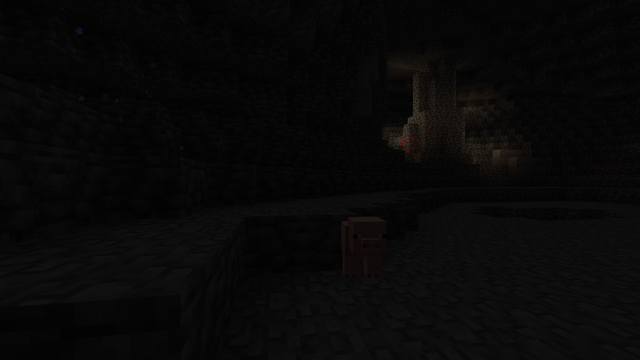cochons: (331, 215, 391, 279)
